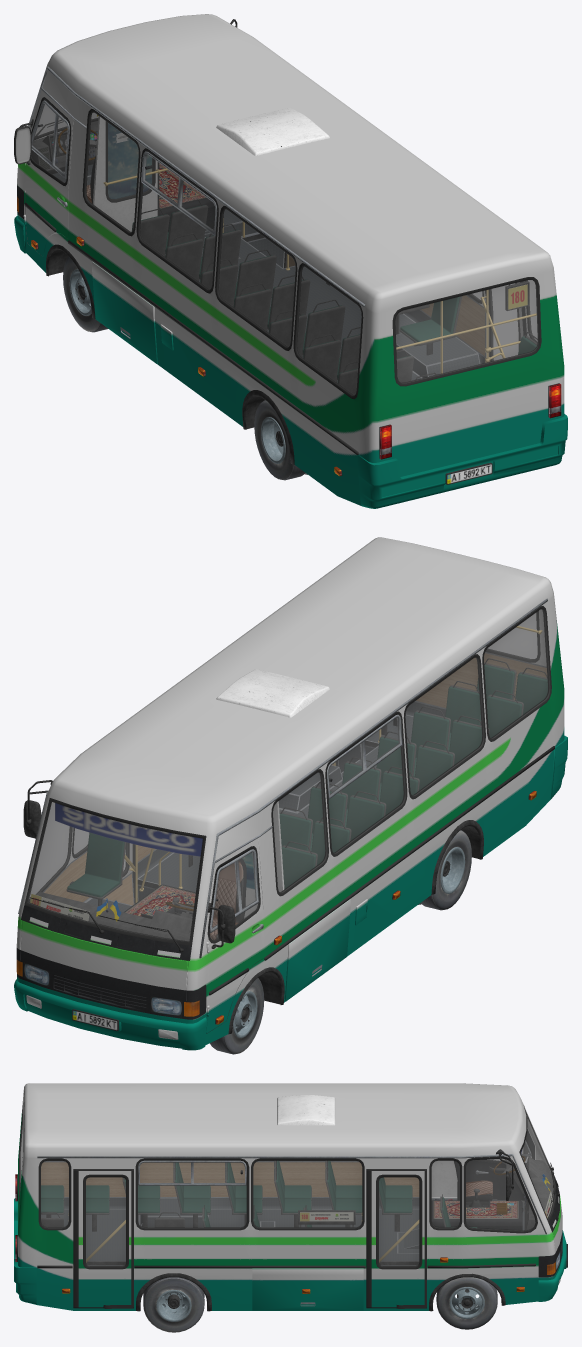
File: etalon_a079_2.0.fbx
3 views of the same model, one above another, from view 1: azimuth 30°, elevation 25°; view 2: azimuth 150°, elevation 25°; view 3: azimuth 270°, elevation 25° (orthographic). The views are drawn at different scales.
Visible parts, largest first — view 1: body, windows, interior, drivers_door, left_rear_wheel_2, rear_door, left_front_wheel, carpet, drivers_window, left_mirror; view 2: body, windows, interior, drivers_door, left_rear_wheel_2, left_front_wheel, carpet, front_door, drivers_window; view 3: body, windows, interior, front_door, rear_door, right_rear_wheel_2, right_front_wheel, drivers_door, carpet, route_plate.002.
Part boxes in pixels (x1,y1,x2,y2): body: (14, 14, 567, 508); windows: (34, 104, 541, 399); interior: (25, 116, 537, 394); drivers_door: (19, 90, 73, 256); left_rear_wheel_2: (254, 400, 305, 480); rear_door: (480, 281, 526, 361); left_front_wheel: (63, 256, 108, 332); carpet: (159, 163, 205, 208); drivers_window: (32, 104, 55, 162); left_mirror: (14, 126, 31, 164); body: (14, 537, 567, 1050); windows: (24, 606, 551, 945); interior: (29, 609, 547, 1033); drivers_door: (206, 838, 263, 1033); left_rear_wheel_2: (420, 830, 471, 910); left_front_wheel: (210, 978, 264, 1054); carpet: (125, 885, 195, 916); front_door: (104, 842, 137, 905); drivers_window: (212, 862, 239, 927); body: (14, 1083, 566, 1311); windows: (19, 1103, 555, 1233); interior: (20, 1119, 553, 1265); front_door: (366, 1169, 426, 1308); rear_door: (73, 1169, 133, 1308); right_rear_wheel_2: (143, 1277, 204, 1332); right_front_wheel: (436, 1277, 497, 1329); drivers_door: (466, 1128, 535, 1200); carpet: (433, 1201, 518, 1218); route_plate.002: (300, 1212, 353, 1221).
Bounding box in the file's own units: 488 × 556 × 1434.
